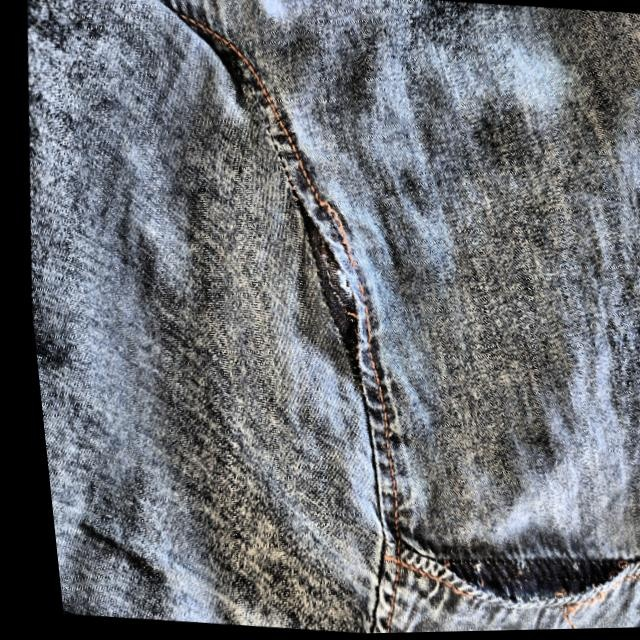seam: (247, 185, 401, 405), (410, 494, 638, 637)
